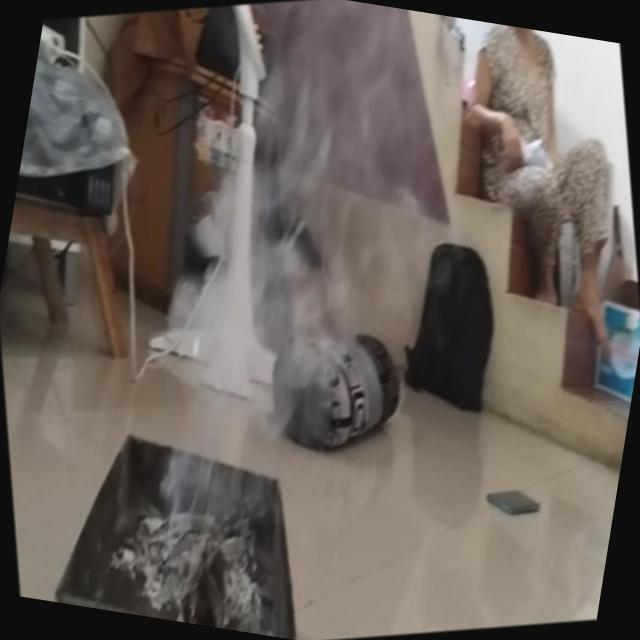smoke: (168, 23, 458, 340), (92, 325, 334, 639)
